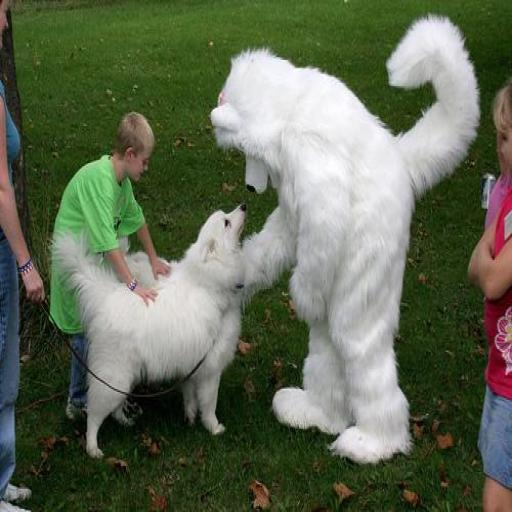dog_face: (193, 203, 257, 283)
